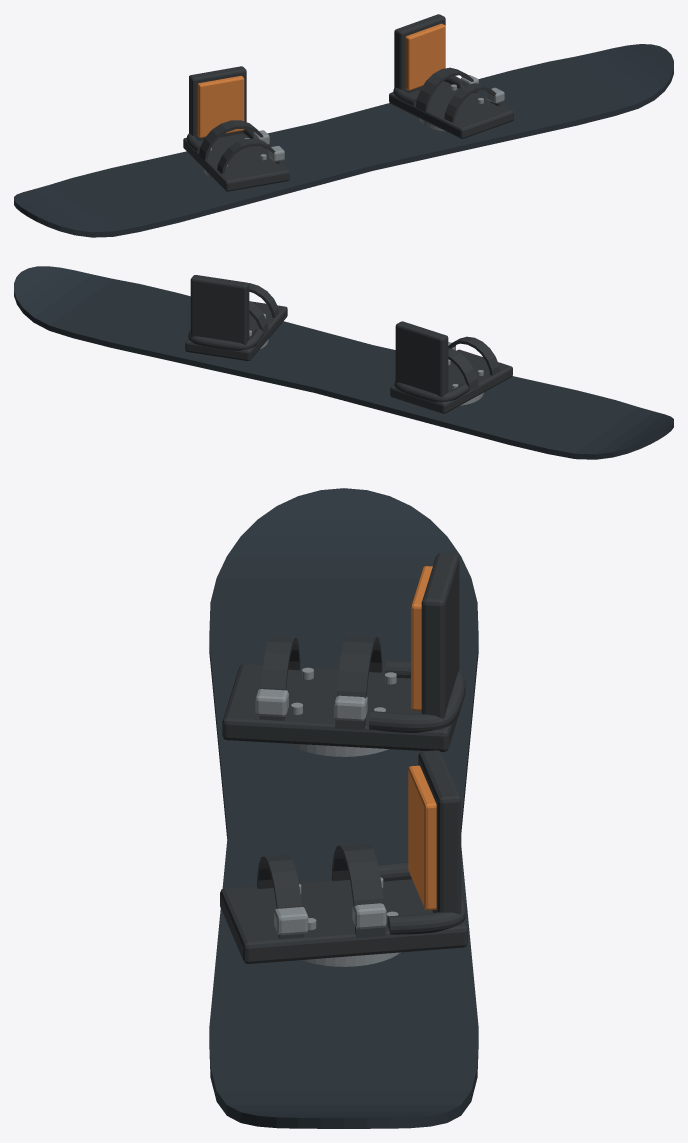
Rendered from full.glb.
The picture shows the model from 3 angles, top to bottom: view 1: azimuth 30°, elevation 25°; view 2: azimuth 150°, elevation 25°; view 3: azimuth 270°, elevation 25°; orthographic projection. The views are drawn at different scales.
Parts seen in each view (by area): view 1: Waisted snowboard, Binding base 1, Binding base 0, Heel cushion 0, Heel cushion 1, Highback 0, Highback 1, Open ankle strap 1, Open ankle strap 0, Open toe strap 1, Open toe strap 0, Heel cup 1; view 2: Waisted snowboard, Highback 1, Highback 0, Binding base 0, Binding base 1, Heel cup 1, Heel cup 0, Open toe strap 0, Open ankle strap 0, Open toe strap 1, Open ankle strap 1; view 3: Waisted snowboard, Binding base 1, Binding base 0, Highback 0, Highback 1, Heel cushion 1, Open ankle strap 1, Open ankle strap 0, Heel cup 0, Heel cup 1, Open toe strap 1, Open toe strap 0 (+1 smaller).
Boxes of the visible parts, <box> form: Waisted snowboard: <box>14,44,673,237</box>; Binding base 1: <box>389,81,513,138</box>; Binding base 0: <box>183,133,289,191</box>; Heel cushion 0: <box>197,76,244,137</box>; Heel cushion 1: <box>405,23,445,90</box>; Highback 0: <box>189,66,246,140</box>; Highback 1: <box>394,14,445,93</box>; Open ankle strap 1: <box>415,67,477,111</box>; Open ankle strap 0: <box>199,120,267,160</box>; Open toe strap 1: <box>444,83,500,122</box>; Open toe strap 0: <box>217,138,280,174</box>; Heel cup 1: <box>393,76,462,105</box>; Waisted snowboard: <box>14,266,673,459</box>; Highback 1: <box>190,275,249,344</box>; Highback 0: <box>395,321,448,397</box>; Binding base 0: <box>390,349,512,413</box>; Binding base 1: <box>185,301,287,360</box>; Heel cup 1: <box>188,329,263,350</box>; Heel cup 0: <box>394,381,468,402</box>; Open toe strap 0: <box>448,336,499,375</box>; Open ankle strap 0: <box>448,348,478,390</box>; Open toe strap 1: <box>249,283,278,317</box>; Open ankle strap 1: <box>249,301,268,335</box>; Waisted snowboard: <box>209,488,478,1128</box>; Binding base 1: <box>220,879,467,963</box>; Binding base 0: <box>222,664,465,751</box>; Highback 0: <box>421,553,459,718</box>; Highback 1: <box>418,750,461,914</box>; Heel cushion 1: <box>408,765,436,910</box>; Open ankle strap 1: <box>331,843,385,938</box>; Open ankle strap 0: <box>335,635,382,729</box>; Heel cup 0: <box>369,660,465,732</box>; Heel cup 1: <box>378,862,466,934</box>; Open toe strap 1: <box>257,854,303,939</box>; Open toe strap 0: <box>259,636,300,720</box>.
Size of the model in its own units: 1.5 by 0.188 by 0.2714.
